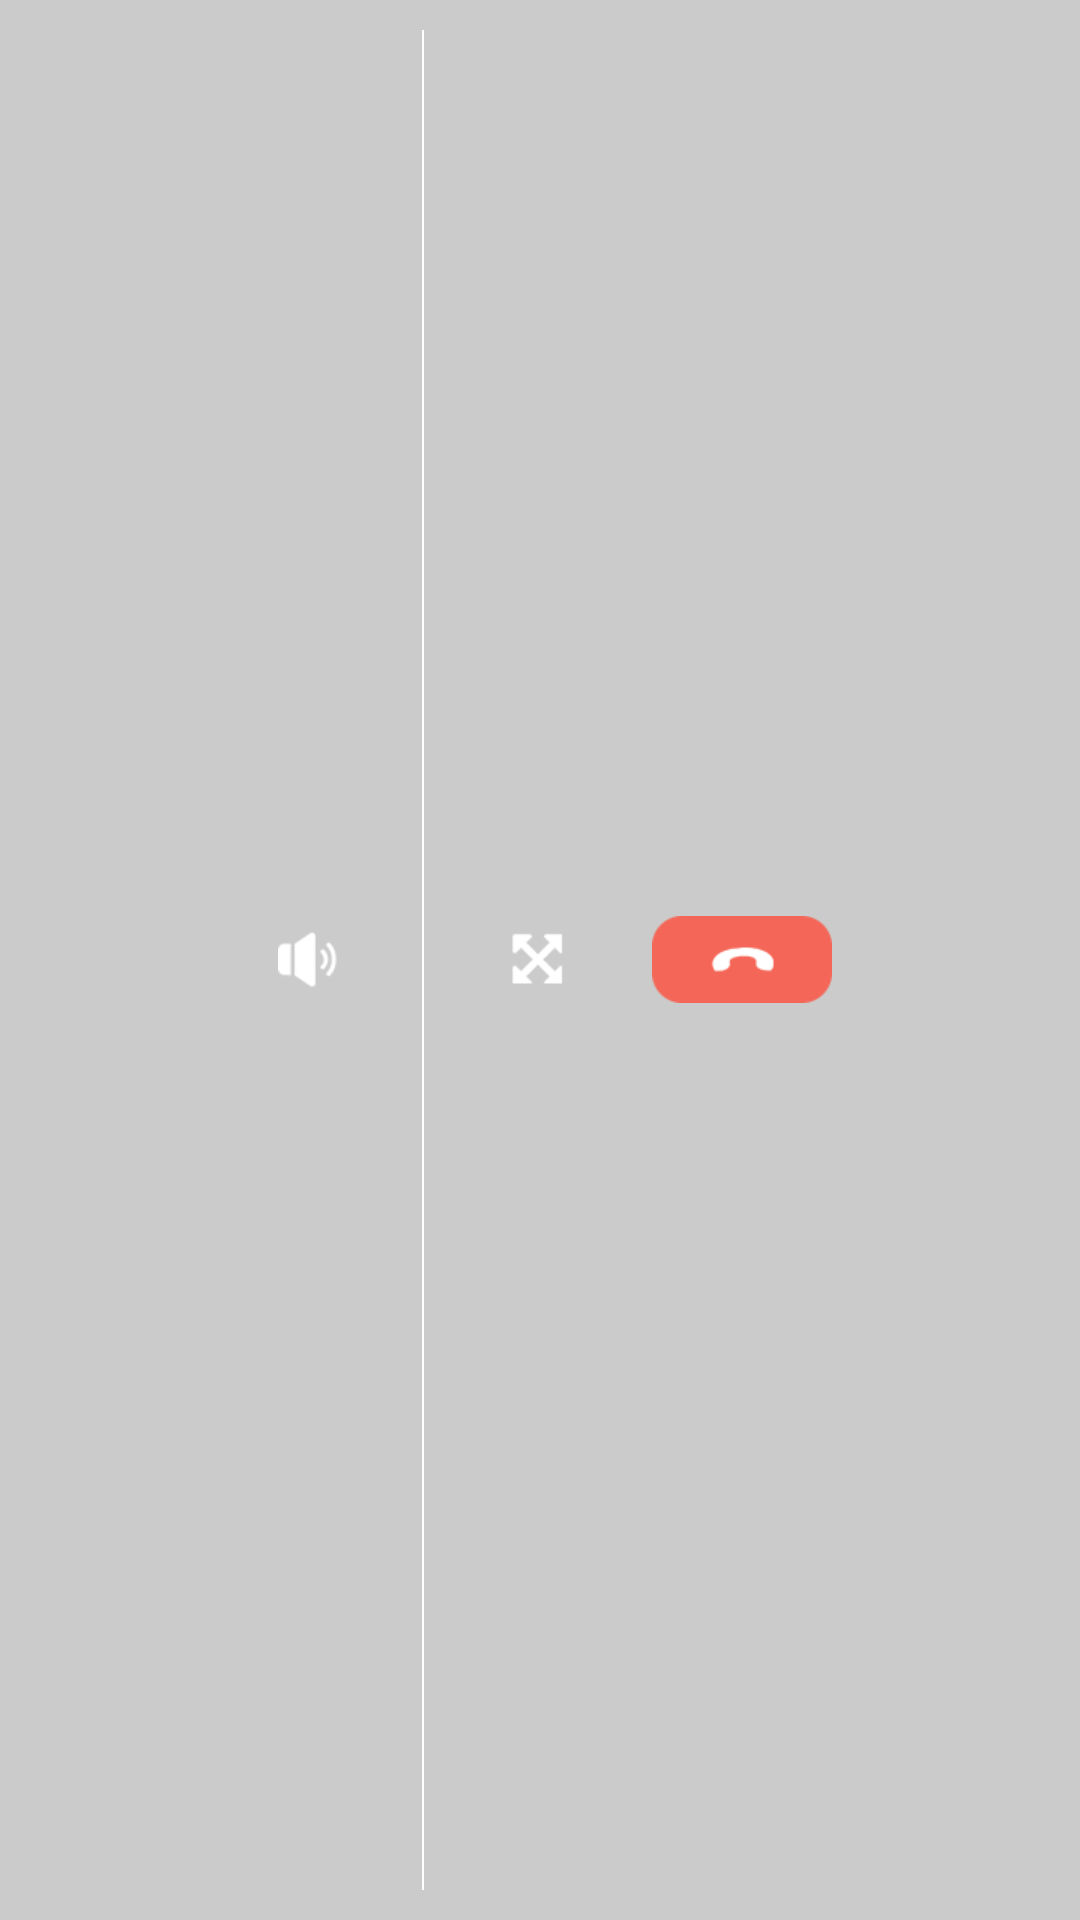

Icon click points for this 1080w x 1920h phone screenshot, format (x=x, y=y):
full screen: (x=537, y=959)
hang up: (x=742, y=959)
volume: (x=307, y=959)
